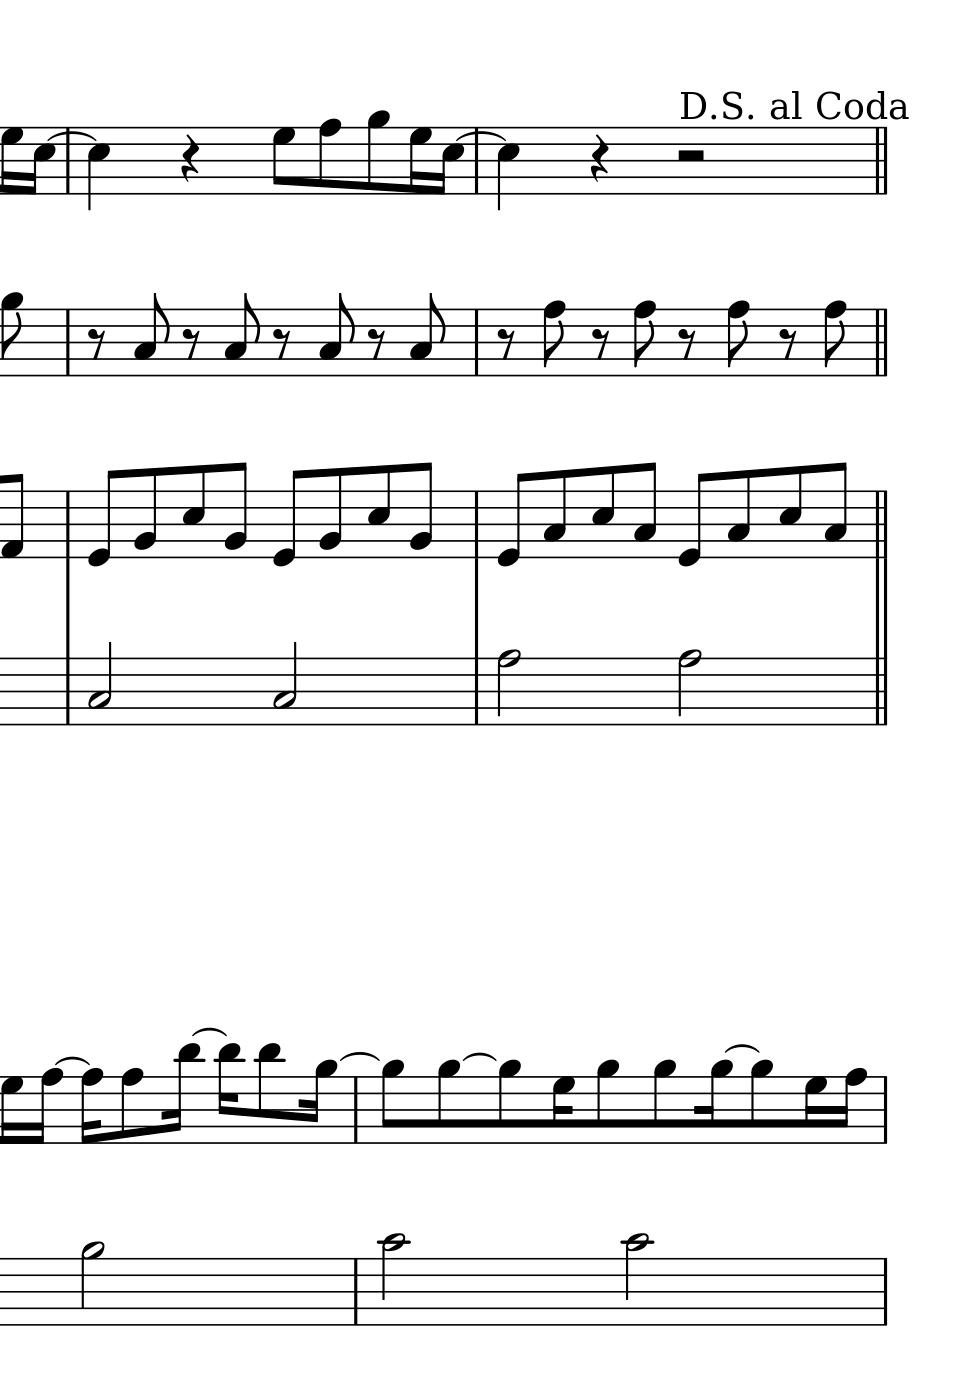16_11: (164, 1042, 203, 1146), (214, 1041, 243, 1146)
16_5: (25, 126, 57, 197)
16_7: (802, 1076, 826, 1148), (550, 1075, 574, 1147), (407, 125, 431, 196), (1, 124, 23, 197), (1, 1074, 22, 1147)
16_8: (29, 1067, 64, 1146), (836, 1067, 867, 1145), (77, 1066, 104, 1147)
16_9: (694, 1058, 734, 1145), (302, 1059, 338, 1145)
2_10: (622, 1230, 653, 1328), (378, 1230, 408, 1328)
2_3: (272, 641, 298, 727), (87, 642, 113, 727)
2_8: (675, 648, 703, 727), (495, 648, 522, 729)
2_9: (78, 1239, 105, 1328)
4_5: (84, 125, 111, 213), (494, 125, 521, 213)
8_0: (270, 469, 307, 571), (86, 468, 121, 568), (676, 472, 711, 571), (496, 471, 531, 568)
8_1: (1, 472, 25, 561)
8_11: (253, 1042, 283, 1146)
8_2: (221, 462, 248, 562), (407, 461, 434, 561), (133, 467, 159, 561), (317, 466, 343, 561)
8_3: (316, 292, 355, 378), (132, 291, 170, 378), (408, 291, 447, 378), (222, 292, 260, 378), (822, 460, 847, 561), (541, 469, 568, 561), (632, 461, 658, 561), (725, 469, 752, 561)
8_5: (365, 463, 392, 560), (179, 463, 206, 560), (776, 464, 803, 561), (589, 464, 615, 560), (434, 126, 465, 197)
8_7: (270, 125, 295, 196)
8_8: (539, 299, 568, 379), (821, 299, 848, 378), (315, 117, 342, 197), (724, 298, 751, 378), (630, 299, 657, 378), (119, 1066, 144, 1146)
8_9: (747, 1059, 775, 1146), (379, 1058, 406, 1145), (434, 1059, 461, 1146), (594, 1058, 622, 1145), (650, 1059, 678, 1145), (495, 1059, 522, 1146), (364, 109, 389, 196), (1, 290, 25, 379)
DSalcoda: (679, 88, 914, 123)
Double_barline: (870, 490, 892, 559), (870, 127, 892, 195), (870, 309, 892, 376)
Final_barline: (868, 657, 892, 725)
Rests2: (671, 147, 708, 166)
Rests4: (179, 133, 202, 185), (588, 133, 610, 185)
Rests8: (494, 326, 517, 361), (85, 327, 107, 361), (590, 327, 611, 361), (676, 327, 697, 361), (272, 326, 292, 361), (181, 327, 202, 361), (366, 327, 386, 361), (777, 327, 797, 362)
Single_barline: (467, 491, 486, 559), (468, 657, 486, 725), (876, 1076, 893, 1144), (59, 127, 76, 194), (468, 127, 485, 194), (467, 309, 484, 375), (60, 491, 77, 558), (876, 1258, 893, 1324), (59, 310, 76, 375), (347, 1080, 364, 1143), (348, 1258, 364, 1324), (60, 657, 75, 725)
Slur: (452, 130, 509, 142), (190, 1027, 228, 1039), (47, 131, 97, 141), (339, 1051, 379, 1063), (723, 1043, 760, 1055), (53, 1055, 90, 1067), (461, 1052, 497, 1063)
